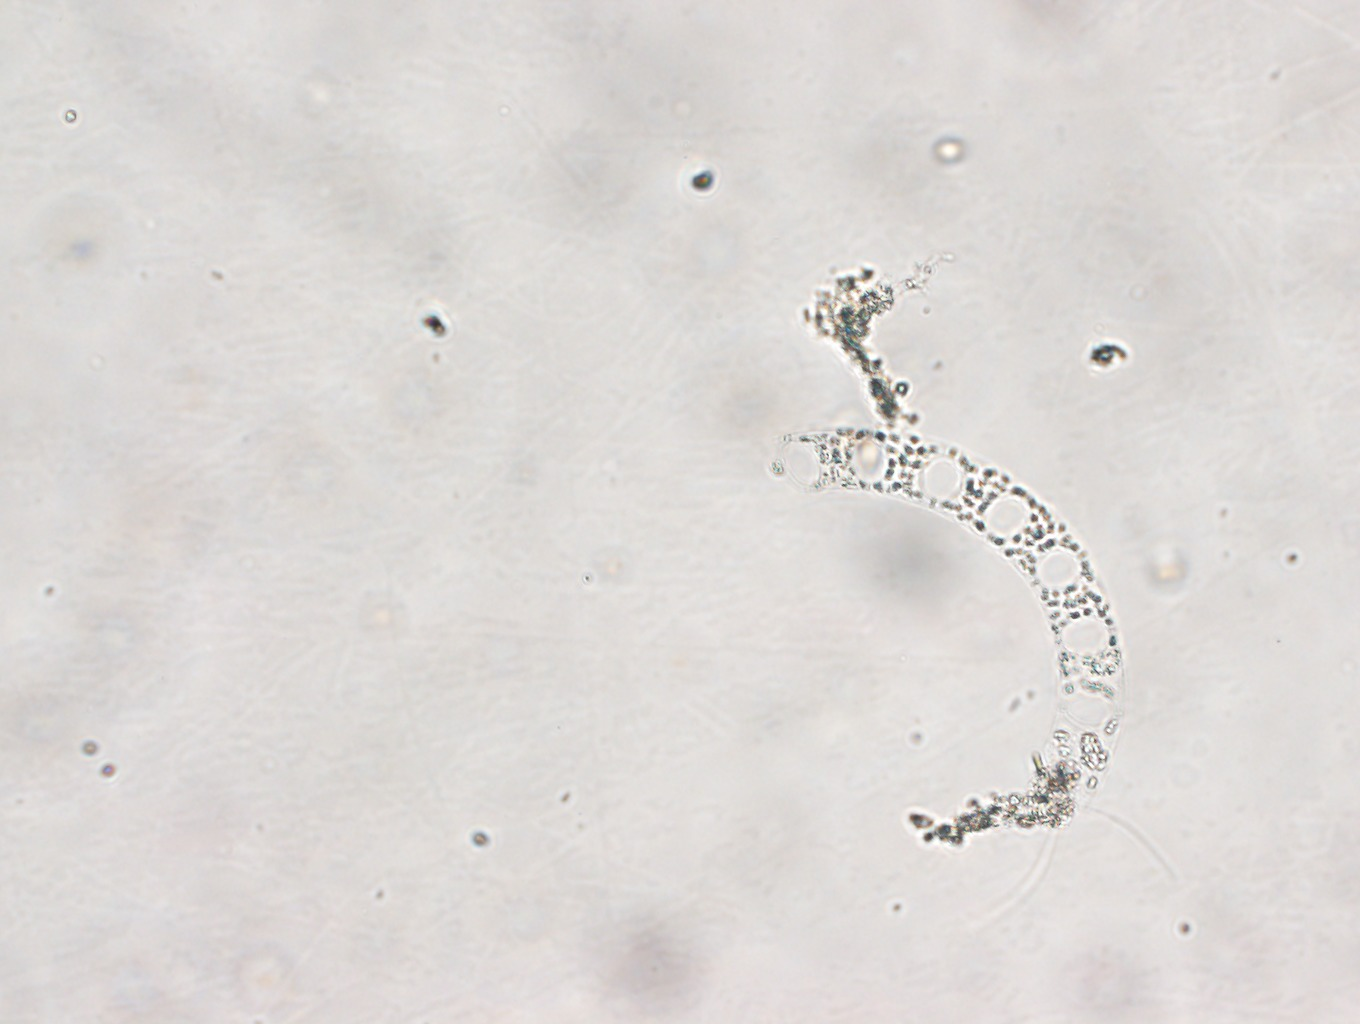eucampia: (762, 412, 1132, 798)
